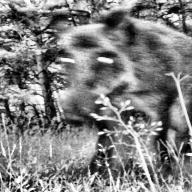boar: (46, 0, 192, 182)
